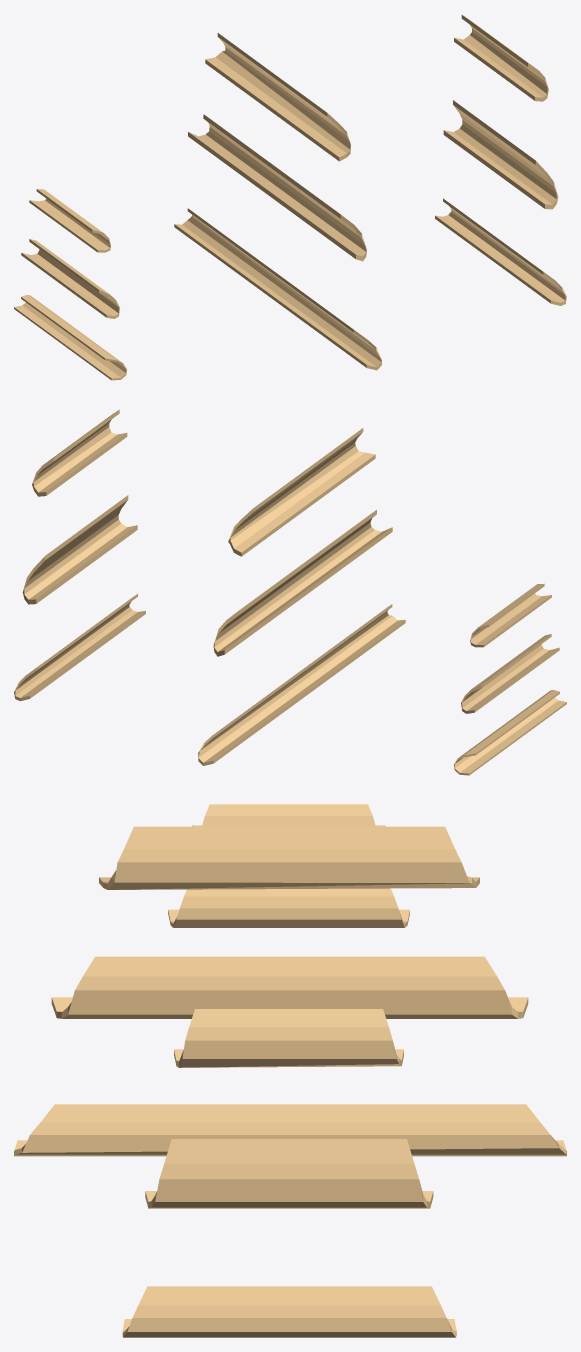
File: Sails1Q.fbx
3 views of the same model, one above another, from view 1: azimuth 30°, elevation 25°; view 2: azimuth 150°, elevation 25°; view 3: azimuth 270°, elevation 25° (orthographic). The views are drawn at different scales.
Visible parts, largest first — view 1: Sail 1Q Mid 3, Sail 1Q Mid 2, Sail 1Q Mid 1, Sail 1Q Front 2, Sail 1Q Front 3, Sail 1Q Front 1, Sail 1Q Back 3, Sail 1Q Back 2, Sail 1Q Back 1; view 2: Sail 1Q Mid 3, Sail 1Q Mid 2, Sail 1Q Mid 1, Sail 1Q Front 2, Sail 1Q Front 3, Sail 1Q Front 1, Sail 1Q Back 3, Sail 1Q Back 2, Sail 1Q Back 1; view 3: Sail 1Q Mid 2, Sail 1Q Mid 3, Sail 1Q Mid 1, Sail 1Q Front 2, Sail 1Q Front 3, Sail 1Q Front 1, Sail 1Q Back 2, Sail 1Q Back 1.
Part boxes in pixels (box(x1,y1,x2,y2)): Sail 1Q Mid 3: box(174, 208, 381, 370); Sail 1Q Mid 2: box(188, 114, 366, 261); Sail 1Q Mid 1: box(205, 33, 350, 161); Sail 1Q Front 2: box(443, 100, 558, 209); Sail 1Q Front 3: box(435, 198, 566, 305); Sail 1Q Front 1: box(454, 15, 548, 101); Sail 1Q Back 3: box(14, 295, 127, 380); Sail 1Q Back 2: box(21, 239, 119, 318); Sail 1Q Back 1: box(29, 189, 110, 252); Sail 1Q Mid 3: box(198, 604, 405, 765); Sail 1Q Mid 2: box(213, 510, 392, 656); Sail 1Q Mid 1: box(228, 428, 375, 556); Sail 1Q Front 2: box(22, 495, 137, 604); Sail 1Q Front 3: box(14, 594, 145, 701); Sail 1Q Front 1: box(32, 409, 127, 496); Sail 1Q Back 3: box(453, 690, 566, 775); Sail 1Q Back 2: box(461, 634, 559, 713); Sail 1Q Back 1: box(470, 583, 551, 647); Sail 1Q Mid 2: box(51, 956, 528, 1018); Sail 1Q Mid 3: box(14, 1104, 566, 1156); Sail 1Q Mid 1: box(99, 826, 479, 889); Sail 1Q Front 2: box(145, 1139, 433, 1208); Sail 1Q Front 3: box(122, 1286, 456, 1337); Sail 1Q Front 1: box(174, 1009, 403, 1067); Sail 1Q Back 2: box(168, 888, 409, 927); Sail 1Q Back 1: box(192, 804, 385, 826).
Bounding box in the file's own units: 8166 × 10852 × 5696.
